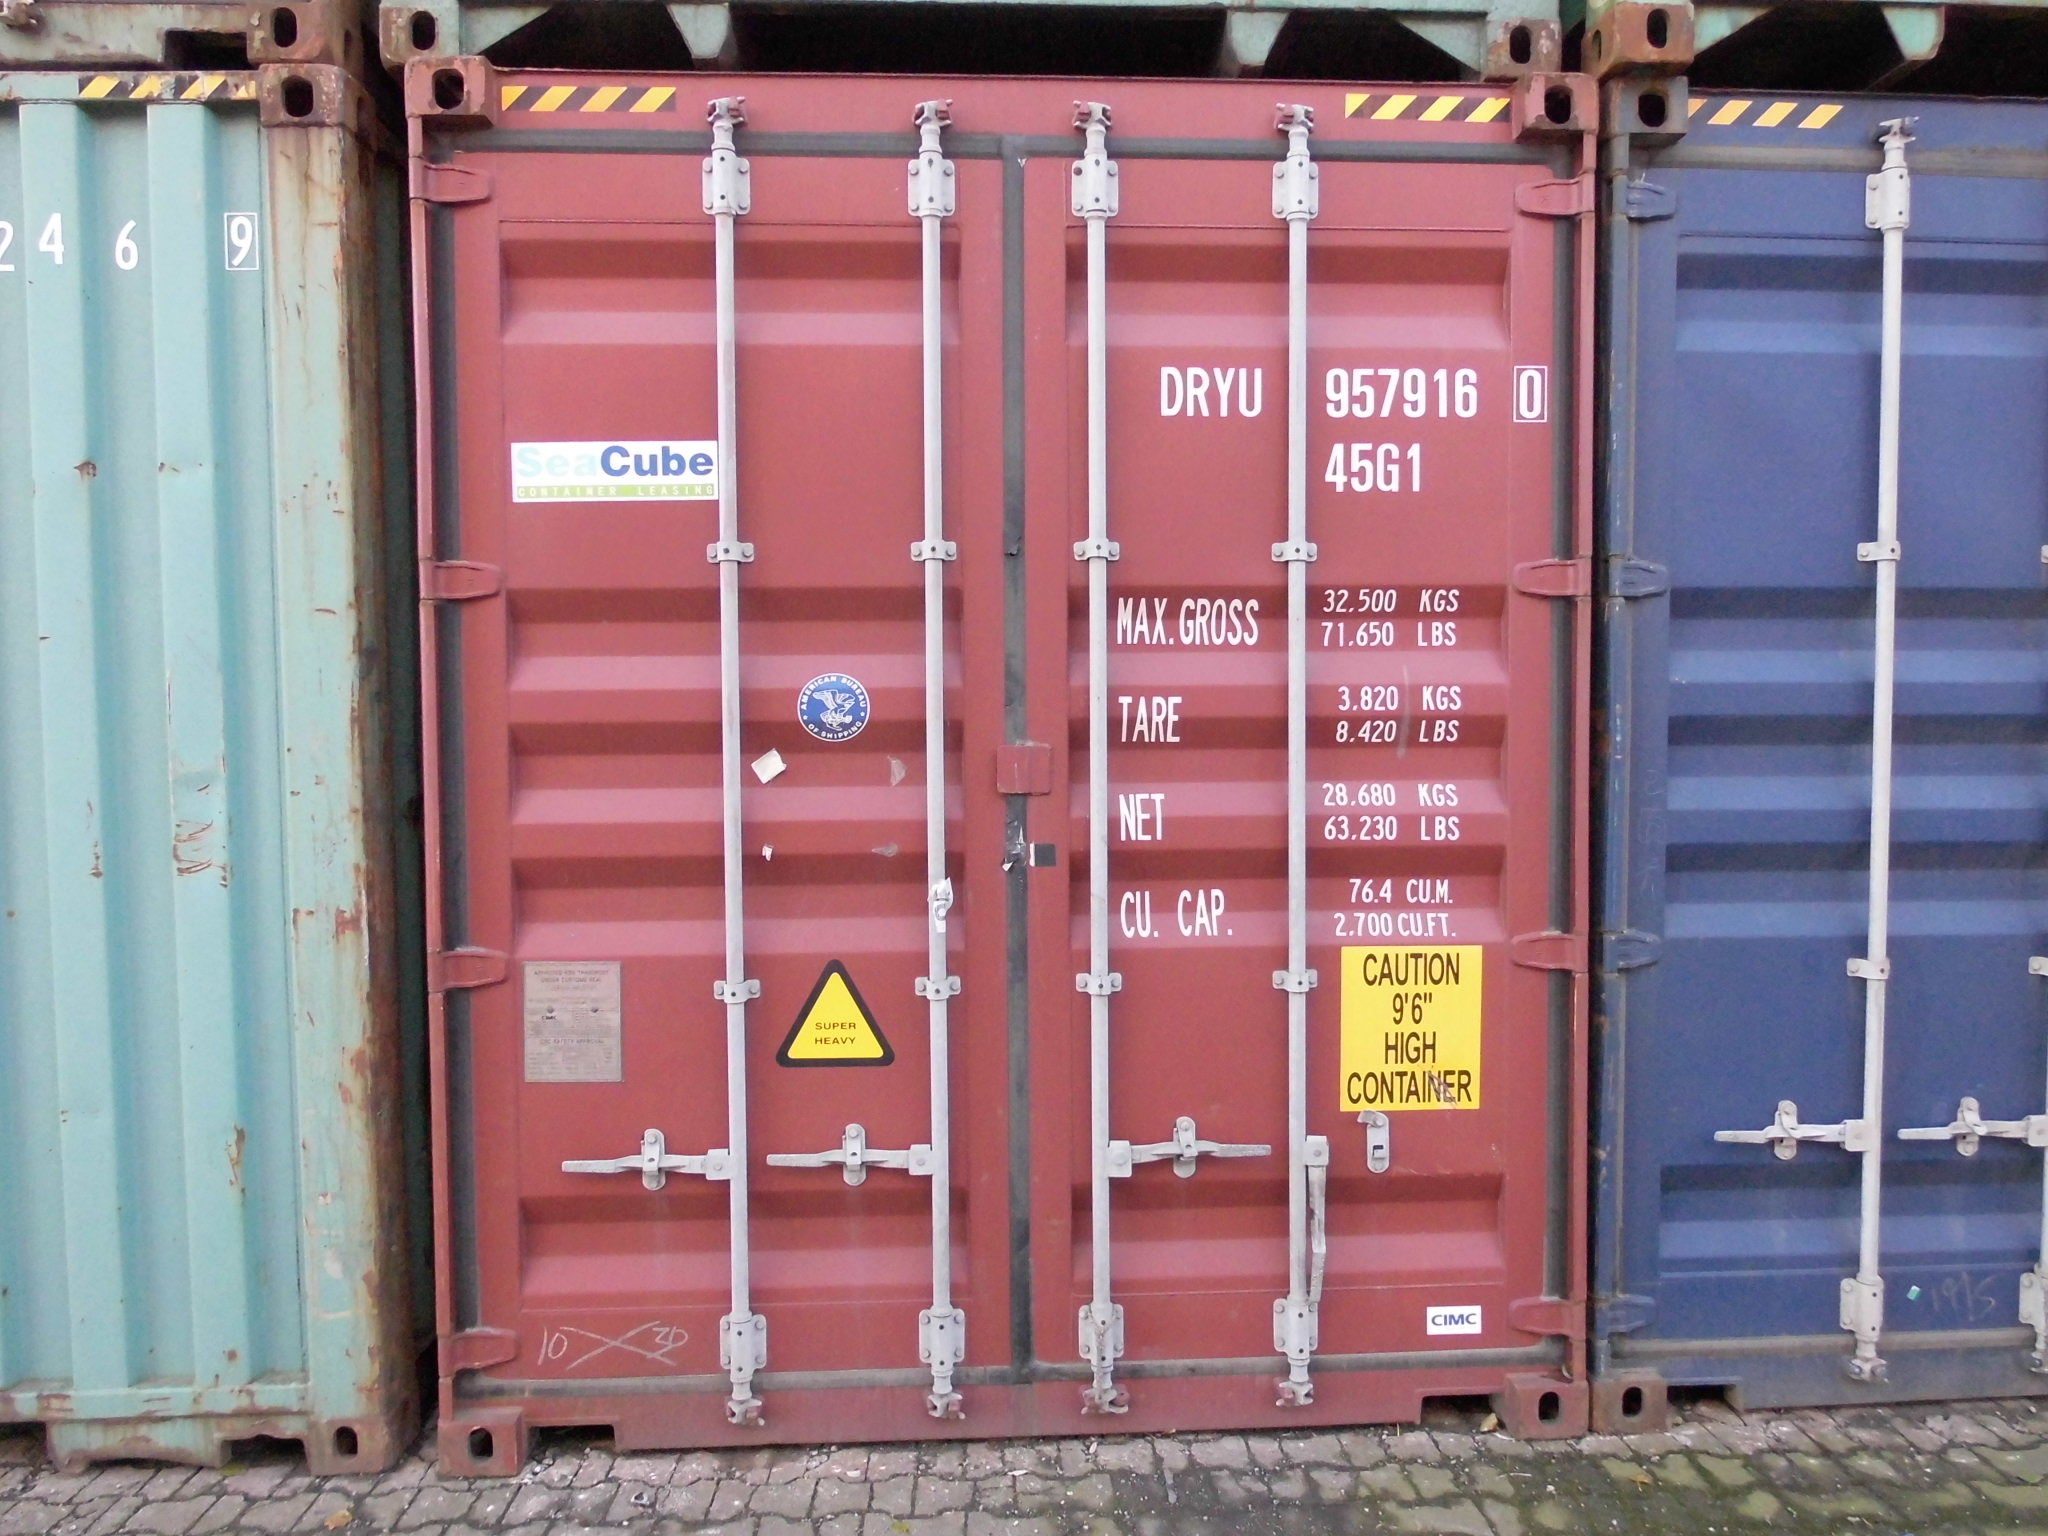container_door: (410, 48, 1593, 1492)
